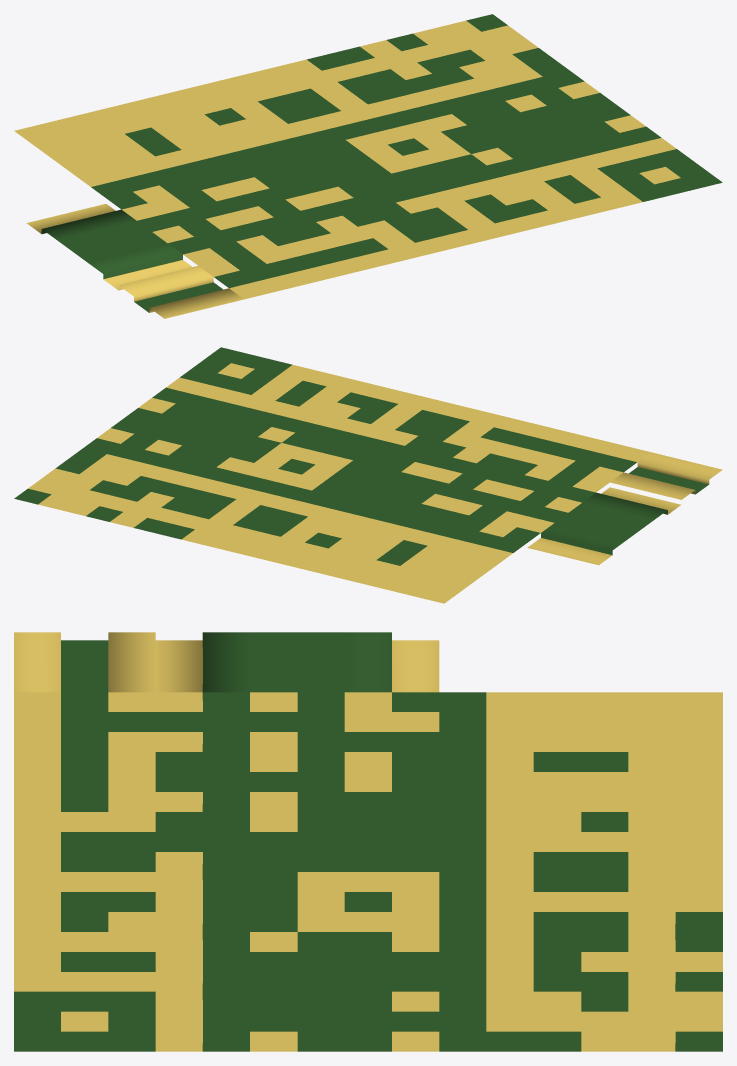
Rendered from suelos naturales tileables.fbx.
The picture shows the model from 3 angles, top to bottom: view 1: azimuth 30°, elevation 25°; view 2: azimuth 150°, elevation 25°; view 3: azimuth 270°, elevation 25°; orthographic projection. The views are drawn at different scales.
Parts seen in each view (by area): view 1: suelo.031, suelo.030, suelo.017, suelo.026, suelo.002, suelo.004, suelo.005, suelo.008, suelo.015, suelo.020, suelo.024, suelo (+21 smaller); view 2: suelo.032, suelo.031, suelo.007, suelo.011, suelo, suelo.003, suelo.006, suelo.008, suelo.010, suelo.014, suelo.017, suelo.018 (+21 smaller); view 3: suelo.011, suelo.023, suelo.017, suelo.005, suelo.029, suelo.006, suelo.007, suelo.008, suelo.009, suelo.010, suelo.012, suelo.013 (+21 smaller).
Part boxes in pixels (x1,y1,x2,y2): suelo.031: (119,266,243,318); suelo.030: (73,232,191,290); suelo.017: (505,81,630,134); suelo.026: (358,207,482,260); suelo.002: (174,72,298,125); suelo.004: (333,33,458,86); suelo.005: (413,14,538,66); suelo.008: (220,106,344,159); suelo.015: (346,120,470,173); suelo.020: (312,173,436,226); suelo.024: (198,246,323,299); suelo: (14,111,139,164); suelo.032: (527,513,639,565); suelo.031: (610,452,722,499); suelo.007: (342,508,454,555); suelo.011: (55,438,167,485); suelo: (373,556,485,603); suelo.003: (157,503,269,550); suelo.006: (414,525,526,573); suelo.008: (271,490,383,538); suelo.010: (127,455,239,503); suelo.014: (312,460,424,507); suelo.017: (97,408,209,455); suelo.018: (497,465,609,512); suelo.011: (439,991,581,1051); suelo.023: (155,991,297,1051); suelo.017: (297,991,439,1051); suelo.005: (581,991,722,1051); suelo.029: (14,991,155,1051); suelo.006: (439,692,581,751); suelo.007: (439,752,581,811); suelo.008: (439,812,581,871); suelo.009: (439,872,581,931); suelo.010: (439,932,581,991); suelo.012: (297,692,439,751); suelo.013: (297,752,439,811).
Size of the model in its own units: 2800 by 25.43 by 2000.
